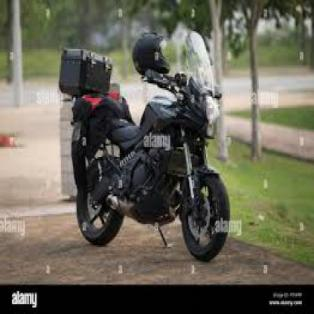Motocicleta: (54, 29, 232, 258)
